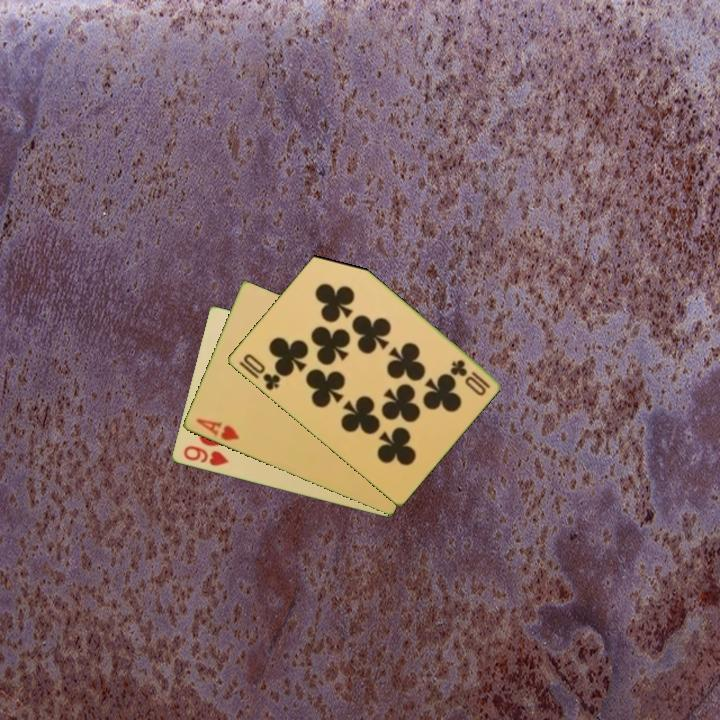10c: (239, 350, 283, 393), (446, 356, 493, 391)
9h: (179, 442, 231, 469)
Ah: (192, 415, 242, 444)
